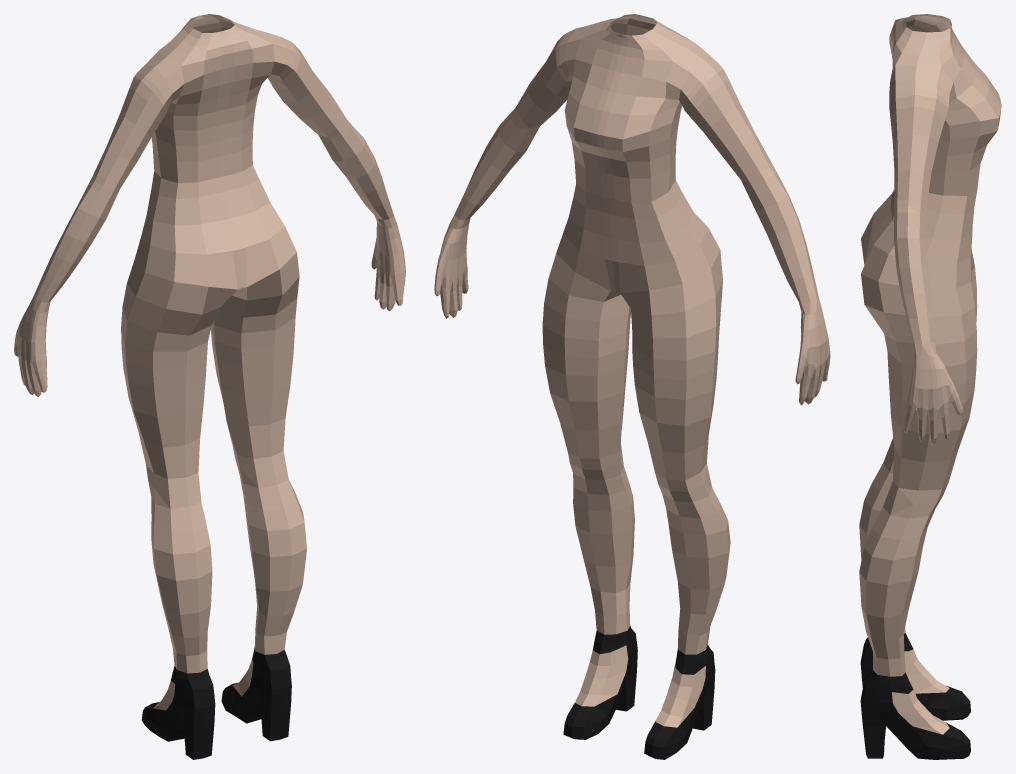
File: NoaBodyMesh.fbx
3 renders of one model, left to right at view 1: azimuth 30°, elevation 25°; view 2: azimuth 150°, elevation 25°; view 3: azimuth 270°, elevation 25°, orthographic.
Parts seen in each view (by area): view 1: Cube; view 2: Cube; view 3: Cube.
Part boxes in pixels (x1=…): Cube: x1=14, y1=14, x2=405, y2=759; Cube: x1=434, y1=14, x2=830, y2=759; Cube: x1=859, y1=14, x2=1001, y2=759.
Bounding box in the file's own units: 123 × 222 × 40.13.
